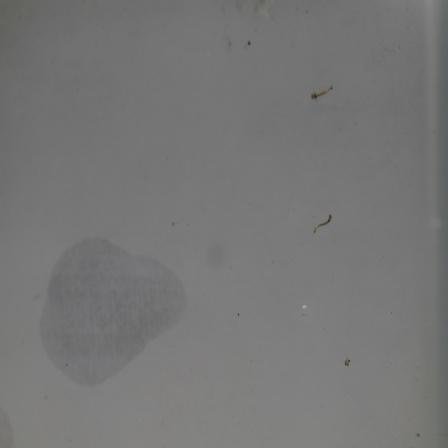Jentik-Nyamuk: (309, 208, 336, 236), (308, 81, 337, 105)
